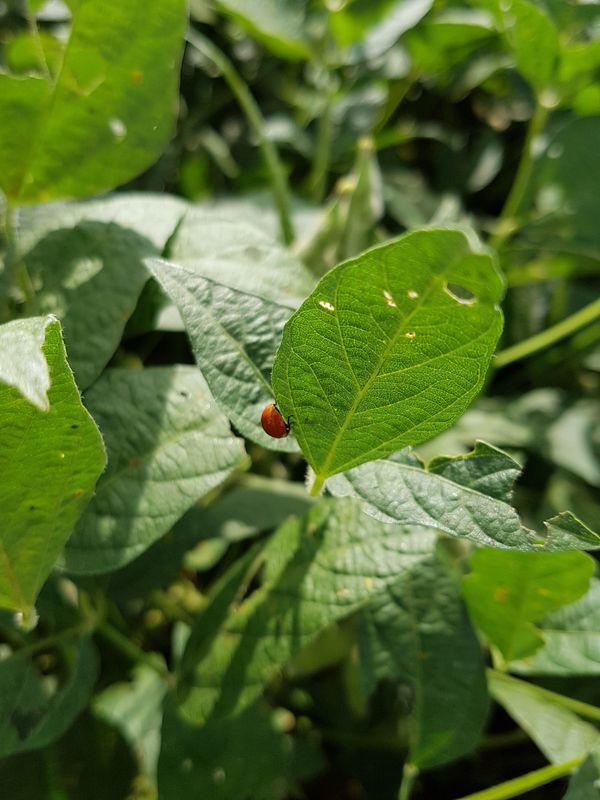Coccinellidae: (245, 392, 306, 456)
